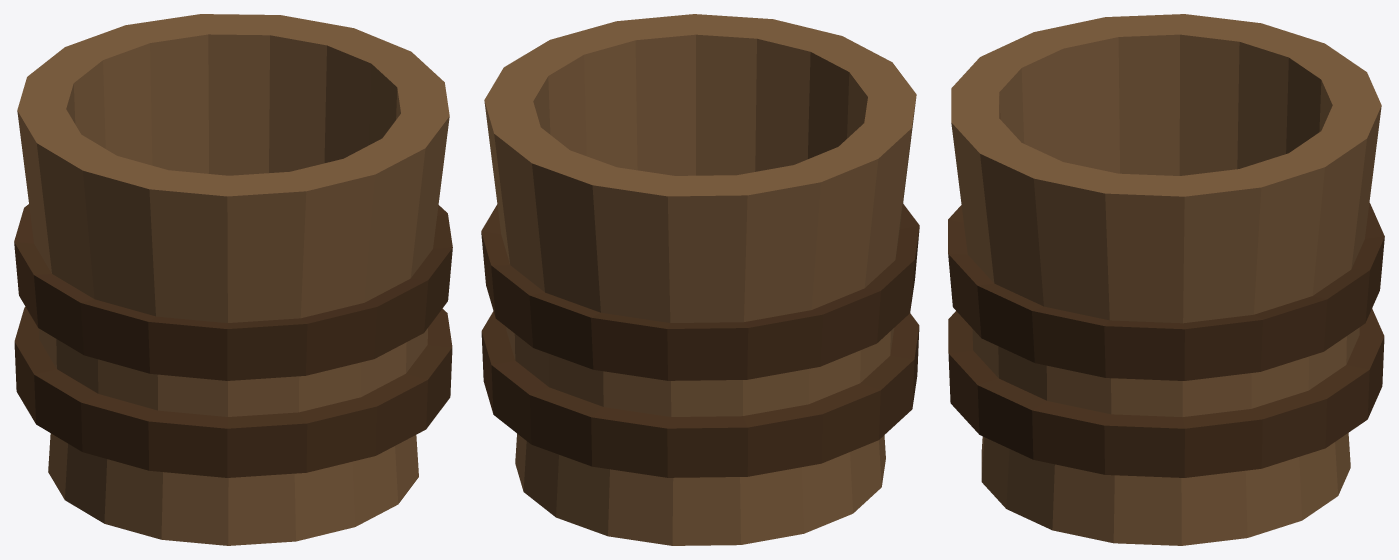
File: Bucket_T2.fbx
3 views of the same model, side by side, from view 1: azimuth 30°, elevation 25°; view 2: azimuth 150°, elevation 25°; view 3: azimuth 270°, elevation 25° (orthographic).
Visible parts, largest first — view 1: Butcket_T2; view 2: Butcket_T2; view 3: Butcket_T2.
Boxes of the visible parts, <box> form: Butcket_T2: <box>14,14,452,545</box>; Butcket_T2: <box>481,14,919,545</box>; Butcket_T2: <box>948,14,1384,545</box>.
Size of the model in its own units: 46.62 by 42.48 by 46.42.
